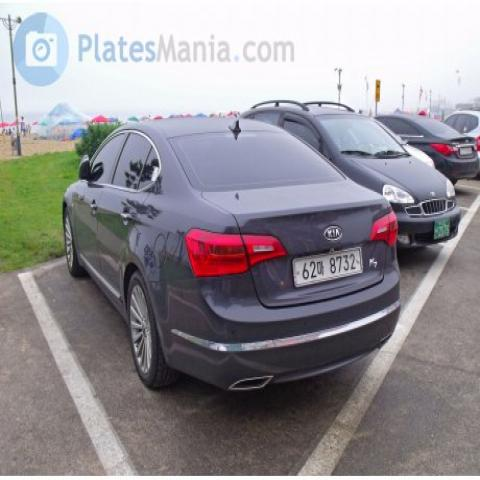LP: (289, 240, 368, 293)
